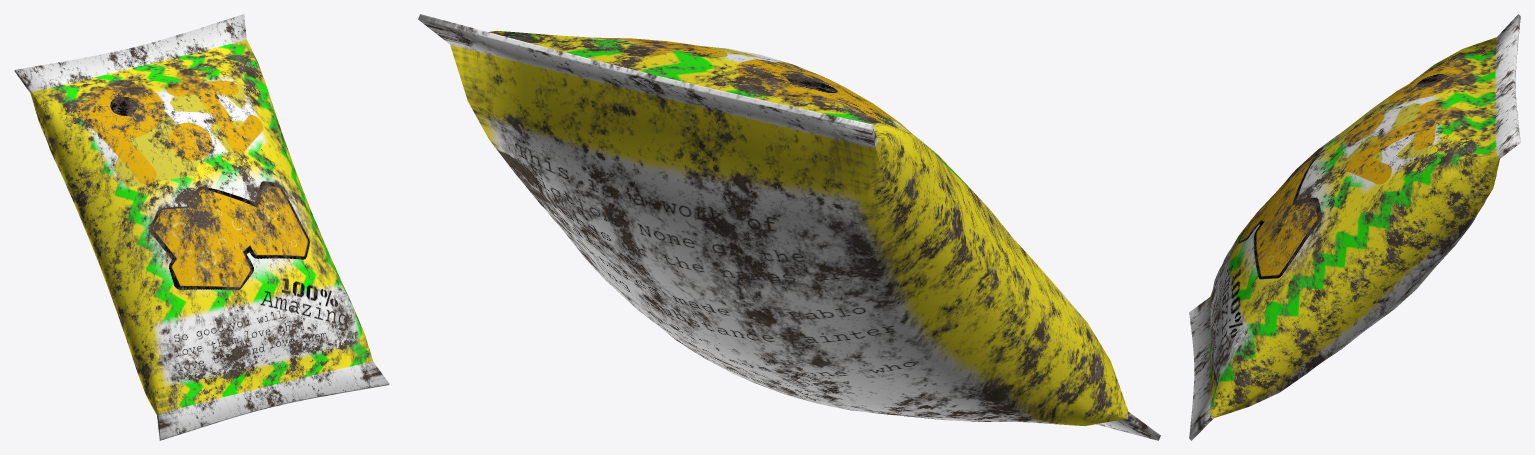
Rendered from Patatas.obj.
3 renders of one model, left to right at view 1: azimuth 30°, elevation 25°; view 2: azimuth 150°, elevation 25°; view 3: azimuth 270°, elevation 25°, orthographic. The views are drawn at different scales.
Parts seen in each view (by area): view 1: Patatas; view 2: Patatas; view 3: Patatas.
Part boxes in pixels (bbox=[...]): Patatas: bbox=[14, 14, 389, 440]; Patatas: bbox=[418, 14, 1160, 440]; Patatas: bbox=[1189, 14, 1520, 440].
Bounding box in the file's own units: 1.55 × 1.72 × 1.72.
1 material, 1 textured.
